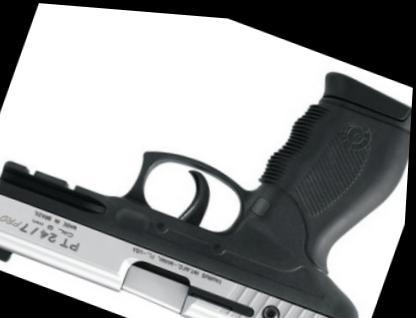pistol: (0, 0, 415, 316)
